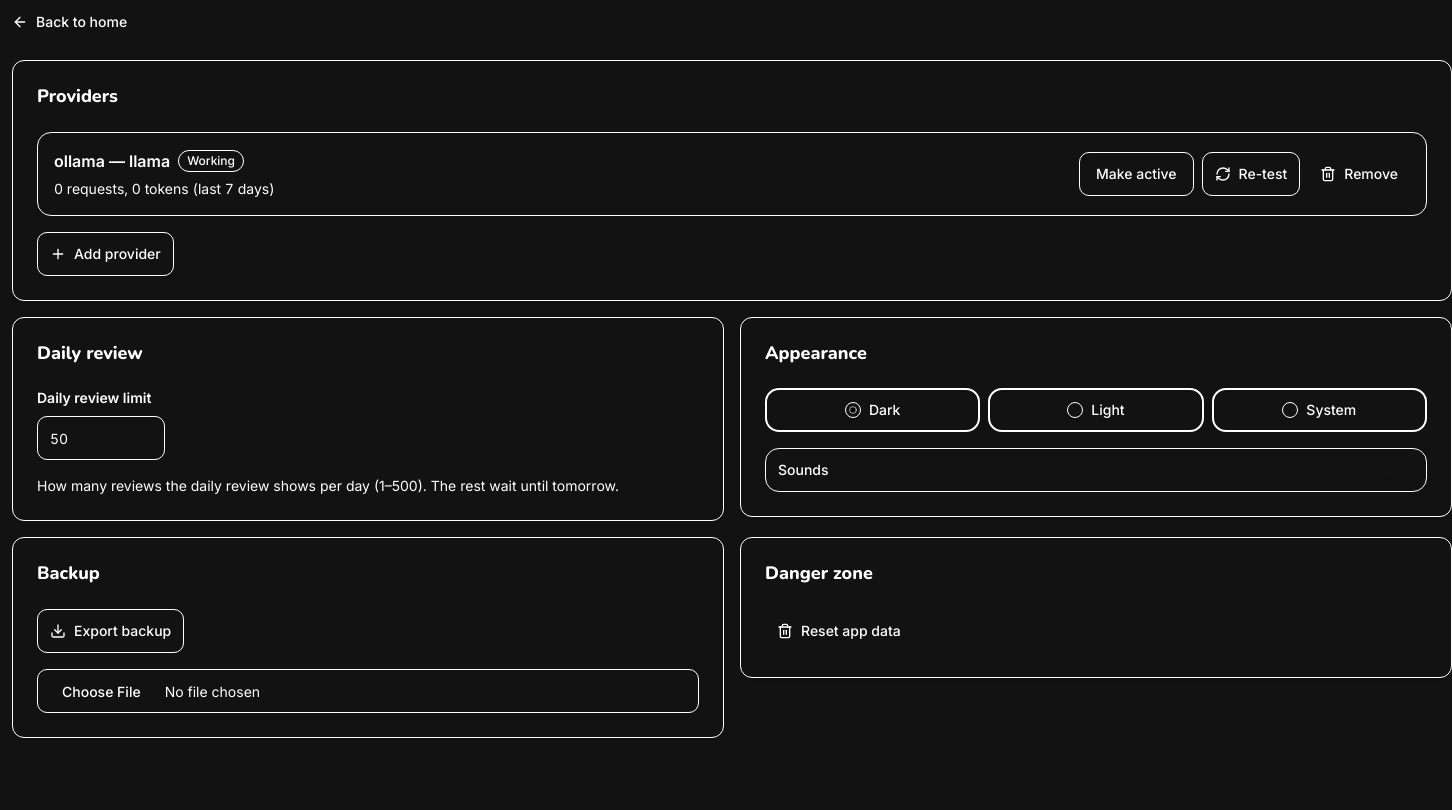
it: SettingsPage › shows an error when a provider action fails
Click the button "Make active": (1136, 174) [1079,152,1194,196]
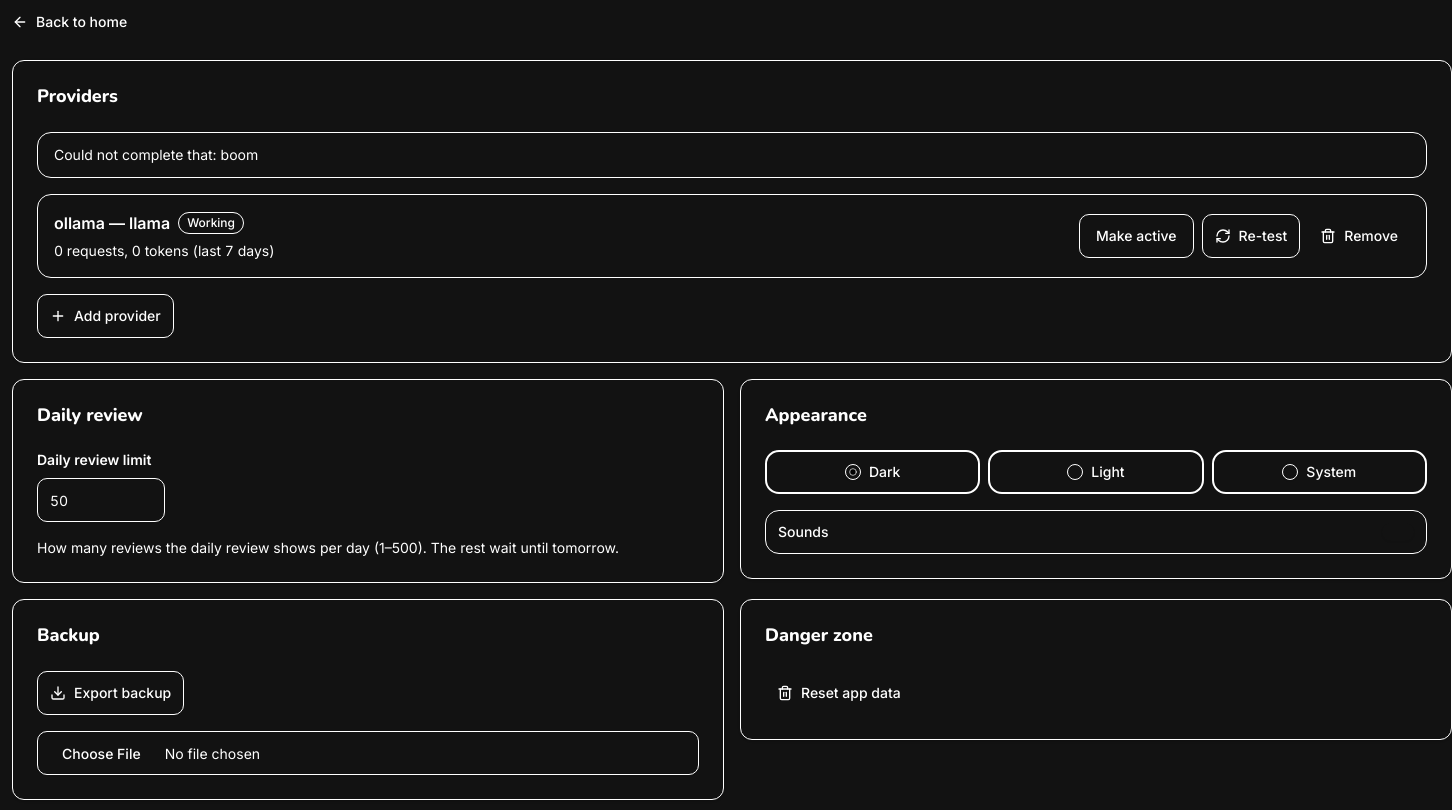
Expected: the message reads "Could not complete that: boom", [54,146,258,162]
